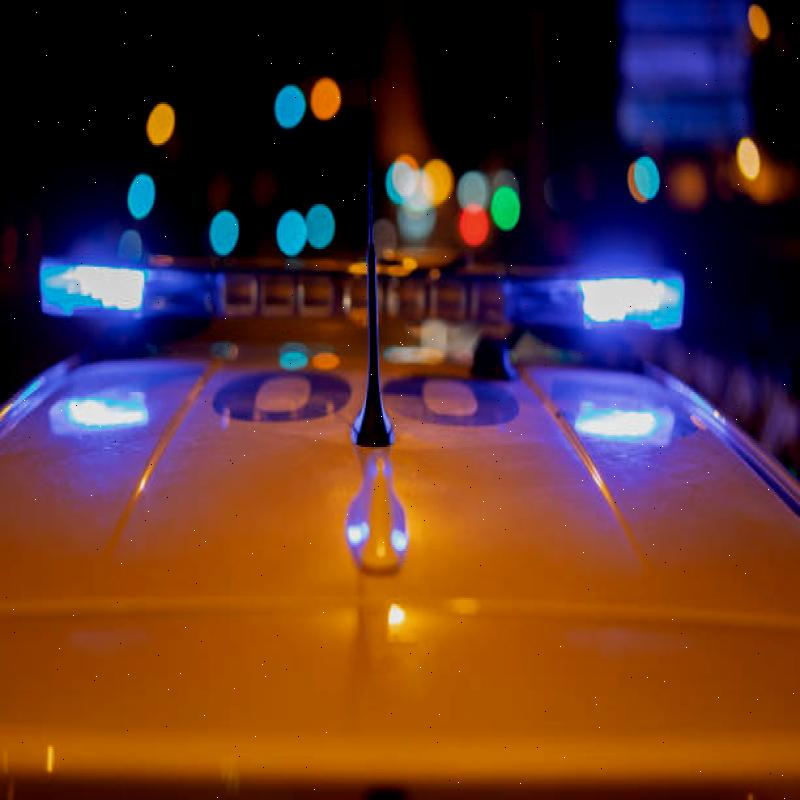AmbulanceSiren: (24, 214, 687, 386)
